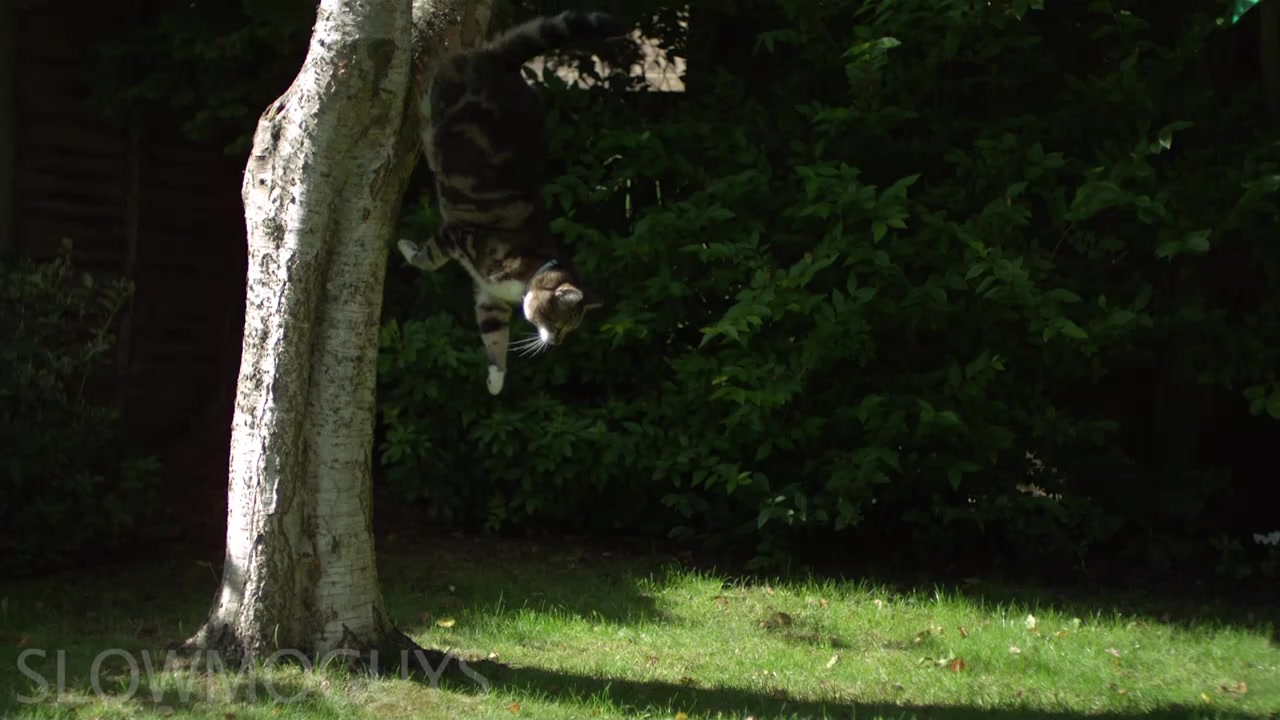cat: (396, 8, 621, 399)
